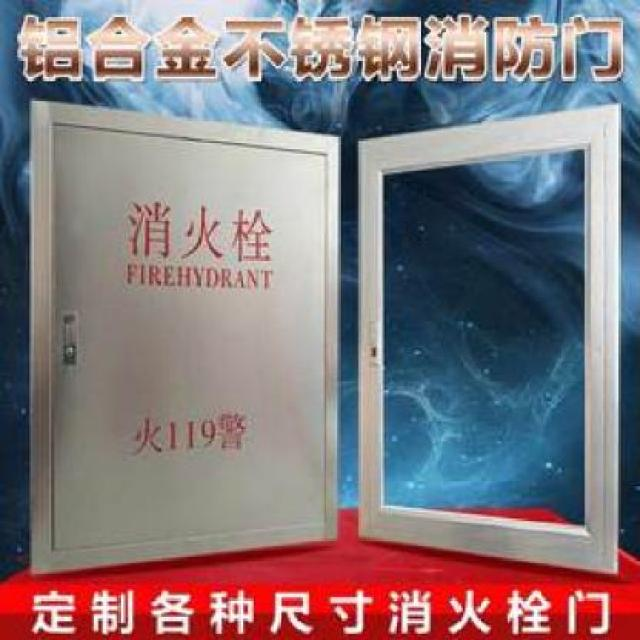firehydrant: (25, 94, 346, 581)
